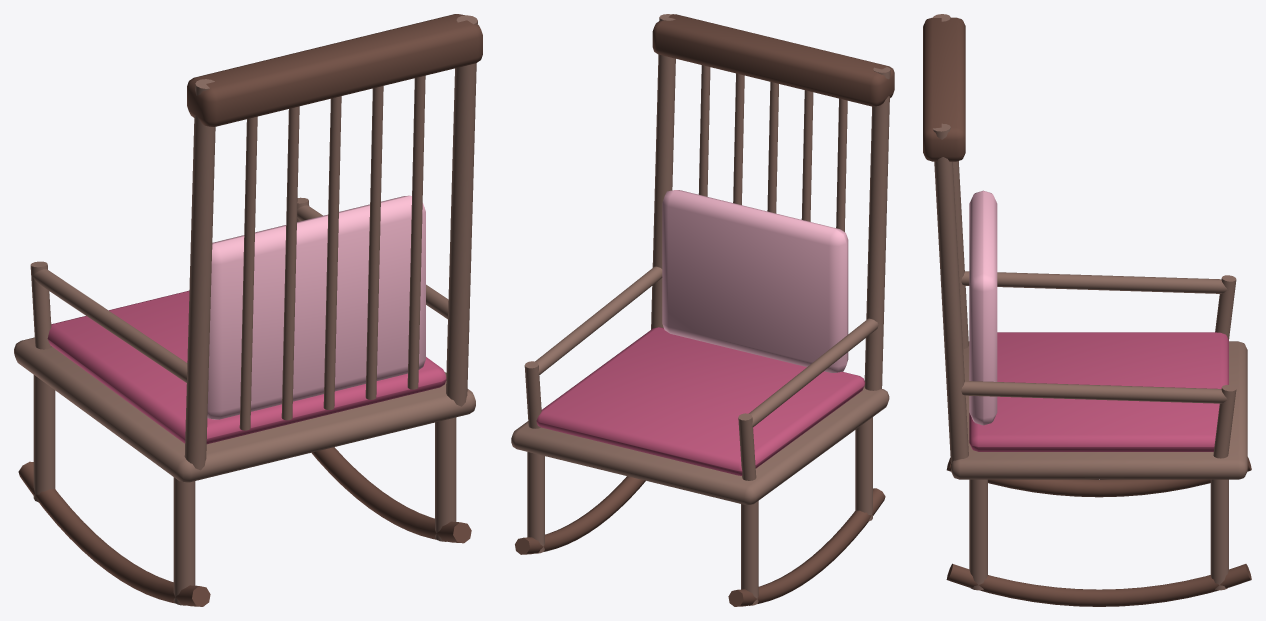
Rendered from rocking_chair.fbx.
3 views of the same model, side by side, from view 1: azimuth 30°, elevation 25°; view 2: azimuth 150°, elevation 25°; view 3: azimuth 270°, elevation 25° (orthographic). The views are drawn at different scales.
Parts seen in each view (by area): view 1: Rocking Chair; view 2: Rocking Chair; view 3: Rocking Chair.
Boxes of the visible parts, bbox=[...] form: Rocking Chair: bbox=[14, 14, 482, 606]; Rocking Chair: bbox=[511, 14, 894, 606]; Rocking Chair: bbox=[923, 14, 1251, 606].
Size of the model in its own units: 1.6 by 2.85 by 1.77.
